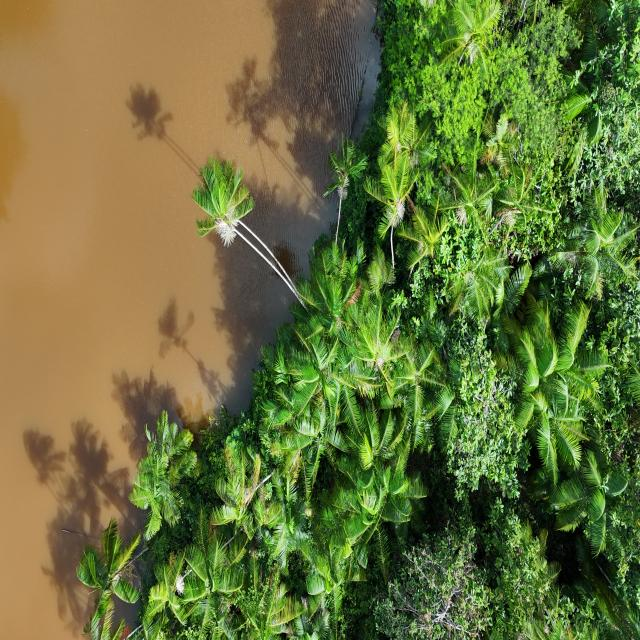vegetation: (66, 1, 638, 638)
